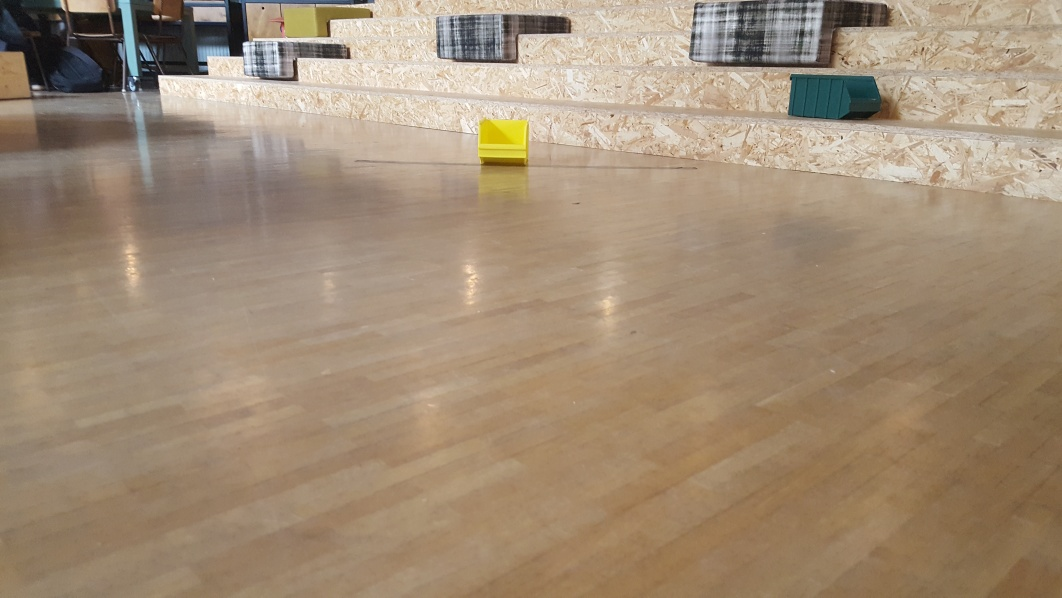tray: (785, 73, 884, 118), (474, 112, 534, 164)
